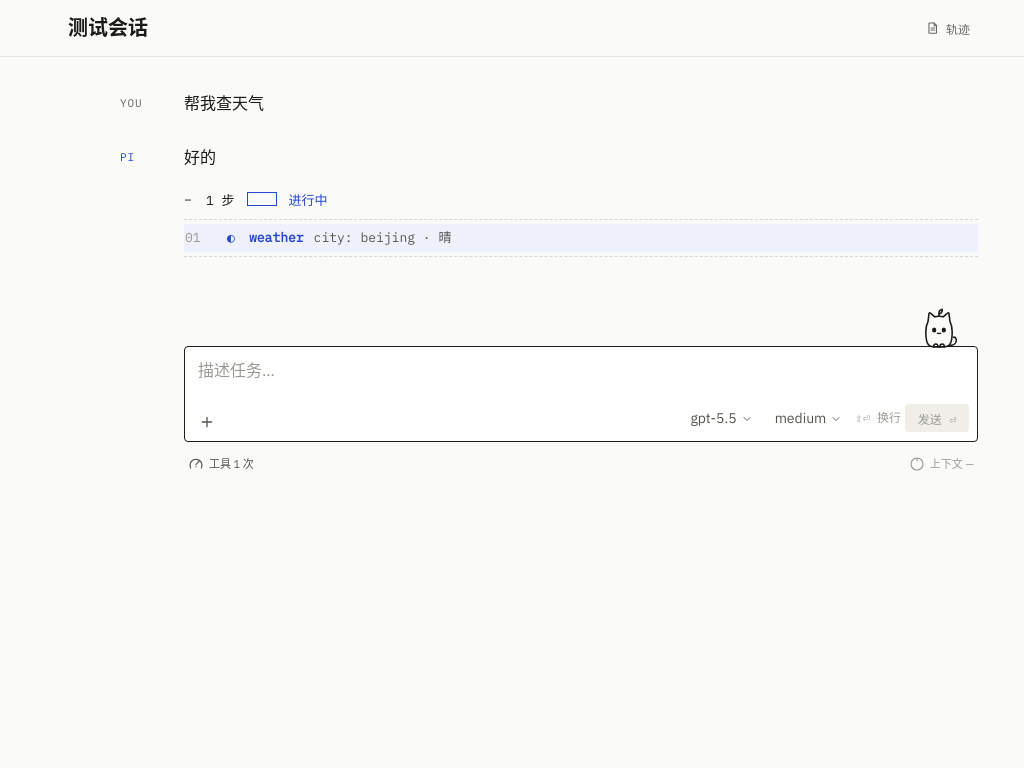
Test: Chat（聊天区） › 会话未覆盖配置时显示实际默认模型与思考级别
The width and height of the screenshot is (1024, 768).
Check: the button with test id "thinking-trigger" reads "medium", box x1=766 y1=402 x2=851 y2=434
Click the button with test id "model-thinking-trigger" showing "gpt-5.5" at (722, 418), box x1=681 y1=402 x2=762 y2=434
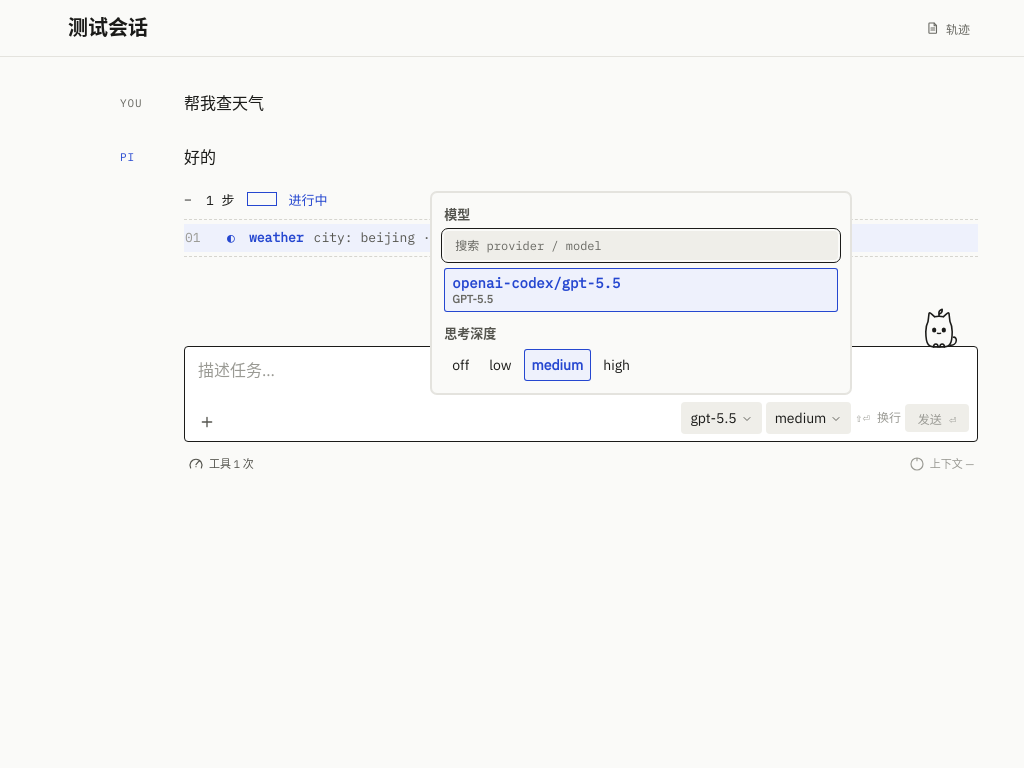
Check: the button named "添加附件" is enabled, box x1=191 y1=406 x2=223 y2=438
Check: the radio button with aria-label "openai-codex/gpt-5.5 (GPT-5.5)" is shown, box x1=444 y1=268 x2=838 y2=312
Check: the radio button labelled "medium" is shown, box x1=524 y1=349 x2=591 y2=381
